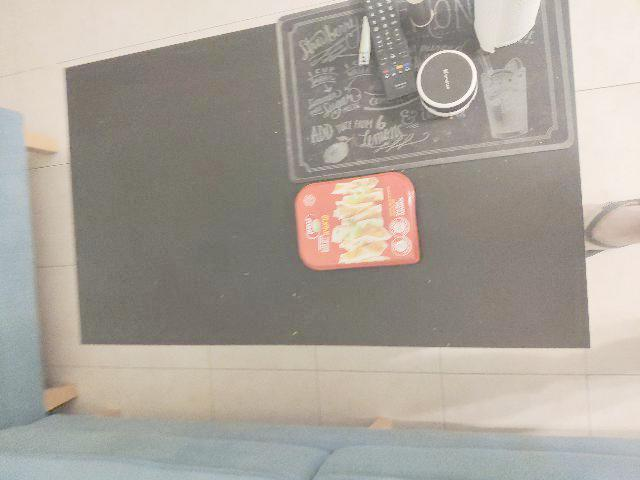cheese: (294, 176, 432, 272)
